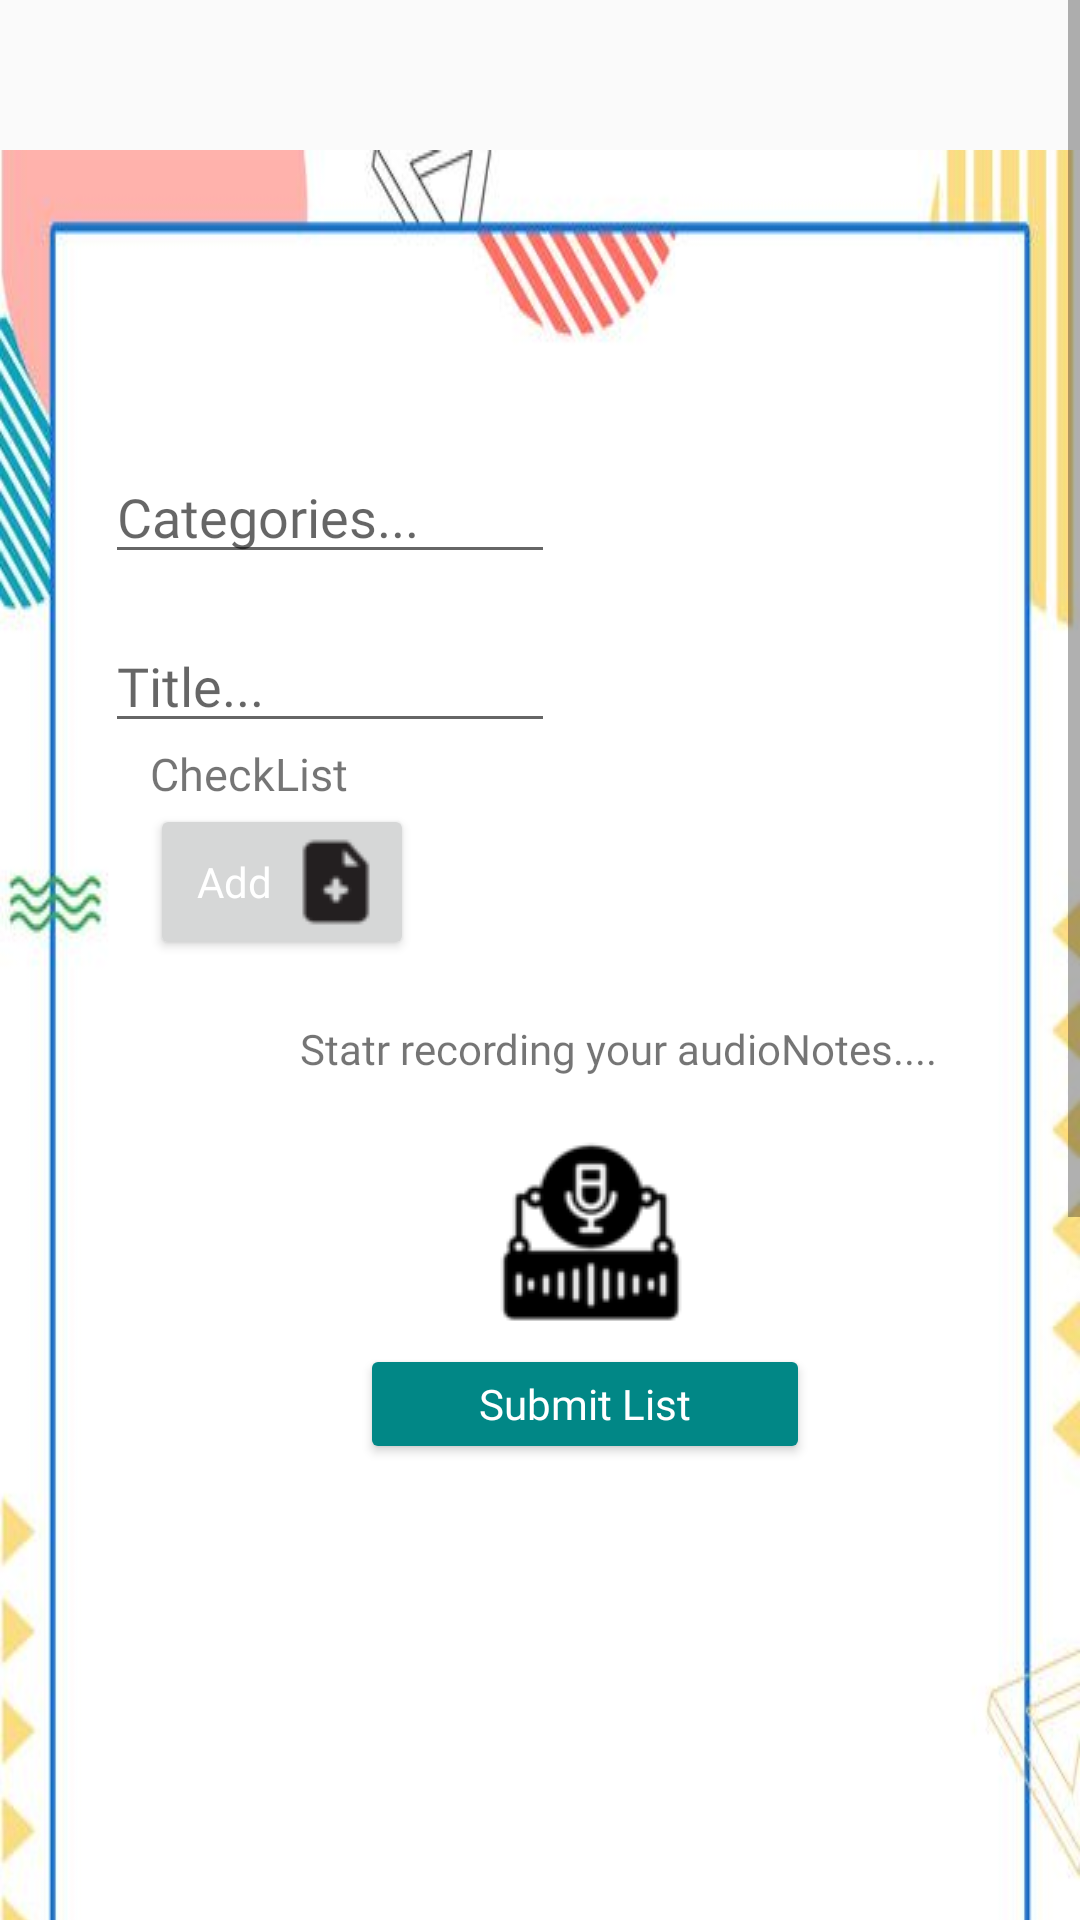

Point at icon controls on the screen. Image size 1080*1920, points as [x,y].
voicesearch: [591,1232]
